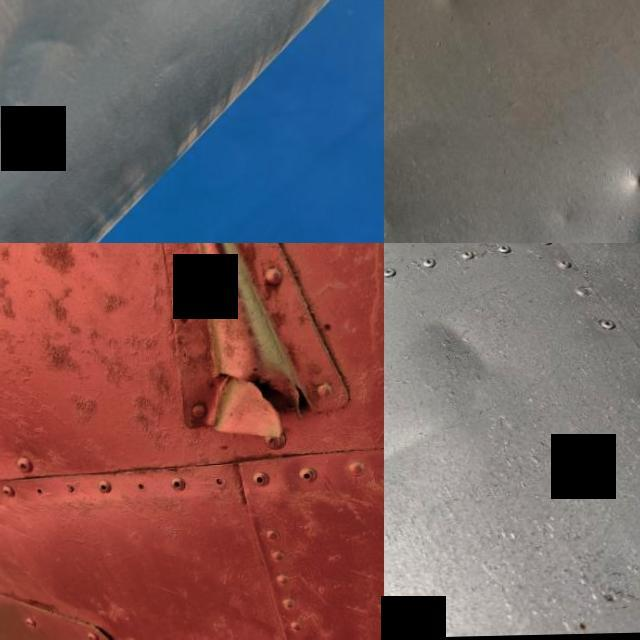Crack: (192, 352, 338, 471)
Dent: (402, 286, 518, 404), (384, 411, 458, 546), (565, 206, 640, 243), (605, 153, 640, 224)
